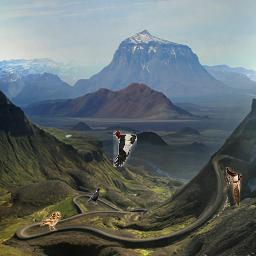Crow: (87, 187, 101, 205)
Sparrow: (40, 211, 61, 231)
Swallow: (219, 167, 242, 207)
Woodpecker: (113, 131, 137, 167)
